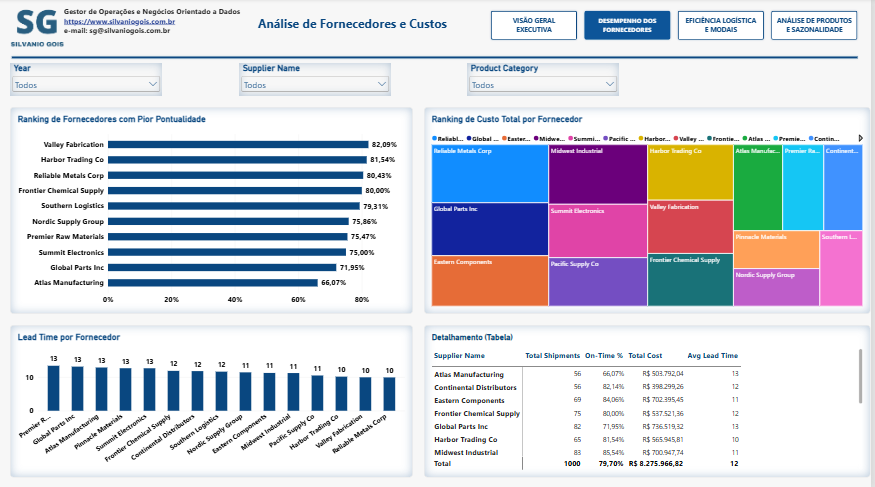

What the dashboard file says about the page in this screenshot:
{"tool":"powerbi","page":{"name":"DESEMPENHO DOS FORNECEDORES","canvas":[1920,1080],"ordinal":1},"visuals":[{"type":"image","box":[24,0,120,120],"z":0},{"type":"textbox","box":[144,0,408,120],"z":1000},{"type":"textbox","box":[552,0,456,120],"z":2000},{"type":"pageNavigator","box":[1080,24,816,72],"z":3000},{"type":"shape","box":[24,120,1872,24],"z":4000},{"type":"slicer","fields":{"Values":["Calendar.Year"]},"box":[24,144,336,72],"z":5000},{"type":"slicer","fields":{"Values":["SupplyChain.Product Category"]},"box":[1032,144,336,72],"z":6000},{"type":"slicer","fields":{"Values":["SupplyChain.Supplier Name"]},"box":[528,144,336,72],"z":7000},{"type":"barChart","title":"Ranking de Fornecedores com Pior Pontualidade","fields":{"Category":["SupplyChain.Supplier Name"],"Y":["Medidas.On-Time %"]},"box":[24,240,888,456],"z":8000},{"type":"treemap","title":"Ranking de Custo Total por Fornecedor","fields":{"Group":["SupplyChain.Supplier Name"],"Values":["Medidas.Total Cost"]},"box":[936,240,984,456],"z":9000},{"type":"columnChart","title":"Lead Time por Fornecedor","fields":{"Category":["SupplyChain.Supplier Name"],"Y":["Medidas.Avg Lead Time"]},"box":[24,720,888,336],"z":10000},{"type":"pivotTable","title":"Detalhamento (Tabela)","fields":{"Rows":["SupplyChain.Supplier Name"],"Values":["Medidas.Total Shipments","Medidas.On-Time %","Medidas.Total Cost","Medidas.Avg Lead Time"]},"box":[936,720,984,336],"z":11000}]}

Visuals, with their boxes in screenshot pixels (x1, y1, x2, y2), scaled from the page's 1920x1080 canvas onto the 875x487 screenshot:
image: [11,0,66,54]
textbox: [66,0,252,54]
textbox: [252,0,459,54]
pageNavigator: [492,11,864,43]
shape: [11,54,864,65]
slicer - Calendar.Year: [11,65,164,97]
slicer - SupplyChain.Product Category: [470,65,623,97]
slicer - SupplyChain.Supplier Name: [241,65,394,97]
"Ranking de Fornecedores com Pior Pontualidade" barChart: [11,108,416,314]
"Ranking de Custo Total por Fornecedor" treemap: [427,108,874,314]
"Lead Time por Fornecedor" columnChart: [11,325,416,476]
"Detalhamento (Tabela)" pivotTable: [427,325,874,476]
